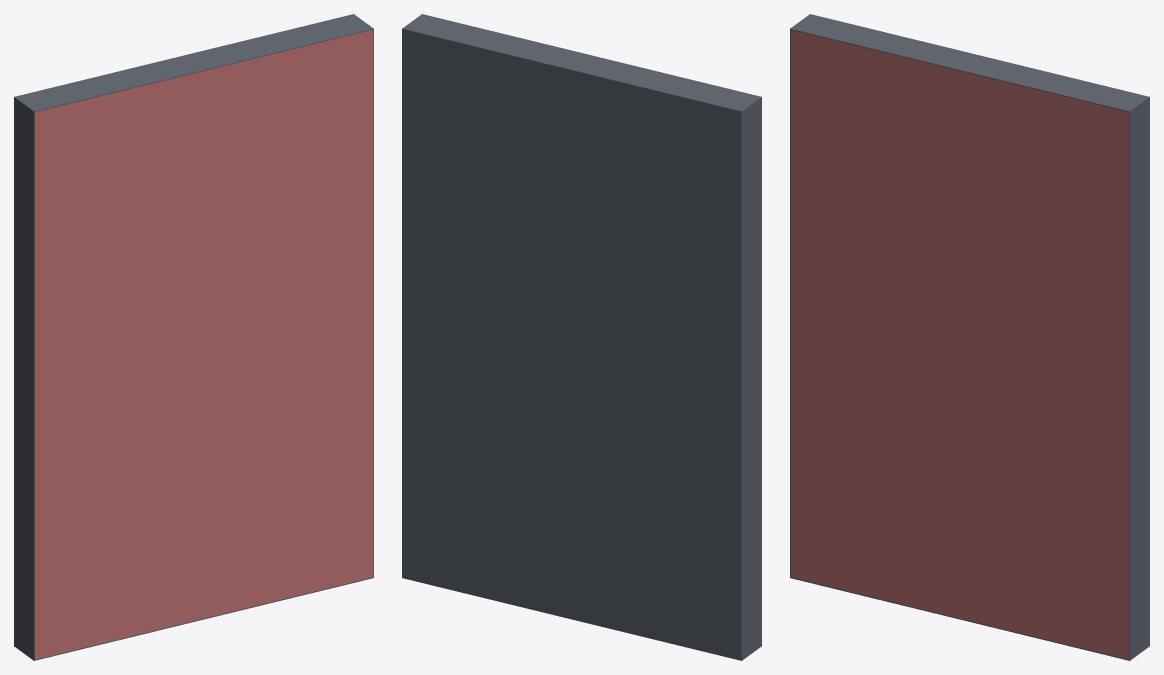
The model's file is step_02.glb.
3 views of the same model, side by side, from view 1: azimuth 30°, elevation 25°; view 2: azimuth 150°, elevation 25°; view 3: azimuth 330°, elevation 25° (orthographic).
Visible parts, largest first — view 1: removed__back shell, part__back shell; view 2: part__back shell; view 3: removed__back shell, part__back shell.
Boxes of the visible parts, x1=… form: removed__back shell: x1=35, y1=30, x2=372, y2=659; part__back shell: x1=14, y1=14, x2=373, y2=660; part__back shell: x1=402, y1=14, x2=761, y2=660; removed__back shell: x1=791, y1=30, x2=1128, y2=659; part__back shell: x1=790, y1=14, x2=1149, y2=660.
Bounding box in the file's own units: 440 × 680 × 45.
